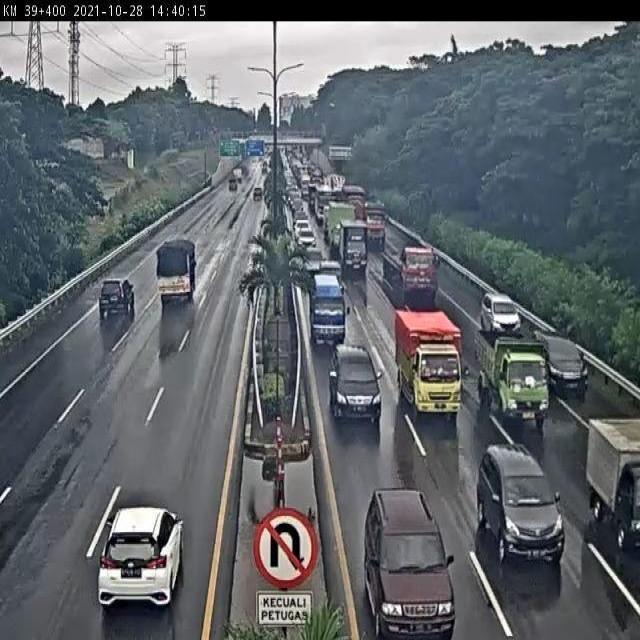bus-s-: (308, 274, 349, 346)
car: (364, 488, 454, 640), (474, 436, 568, 561), (96, 500, 185, 612), (532, 325, 591, 396), (329, 345, 382, 423), (479, 292, 524, 340), (98, 275, 136, 317), (299, 242, 326, 278), (319, 258, 345, 290), (296, 227, 318, 252)
small truck: (155, 236, 198, 303)
truck-m-: (472, 322, 553, 427), (392, 308, 465, 415), (338, 216, 369, 275)
truck-xl-: (380, 236, 437, 297)
